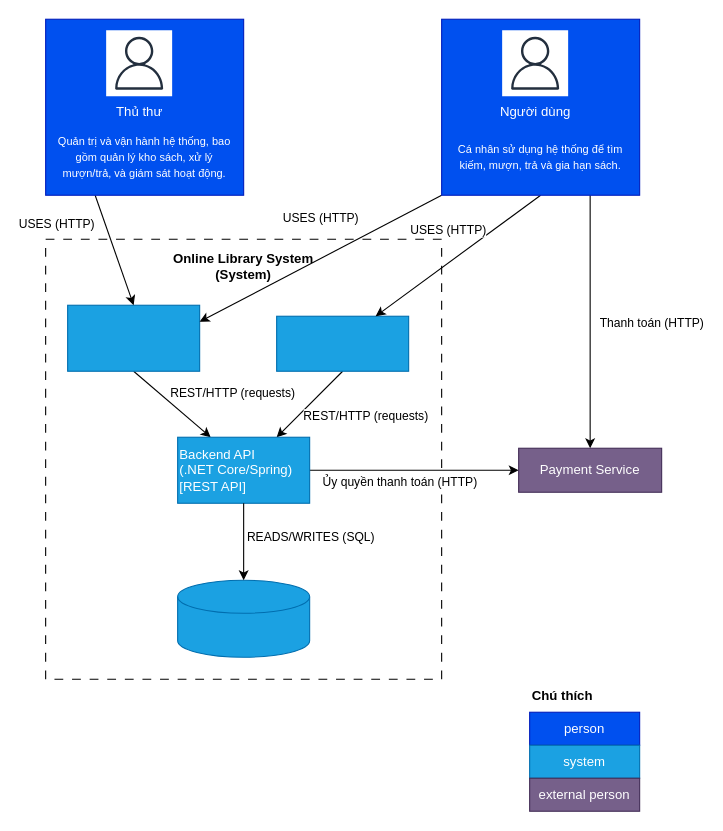
Image size: 723x831. Some labels were removed from this diagram. Here are the shapes that lost their labels. From the top down, the box of each, then its label:
(67, 304, 200, 371): Web App (ReactJS/Angular) [SPA]
(276, 315, 409, 371): Mobile App (Flutter/React Native)
(177, 579, 310, 657): Database (PostgreSQL/MySQL
